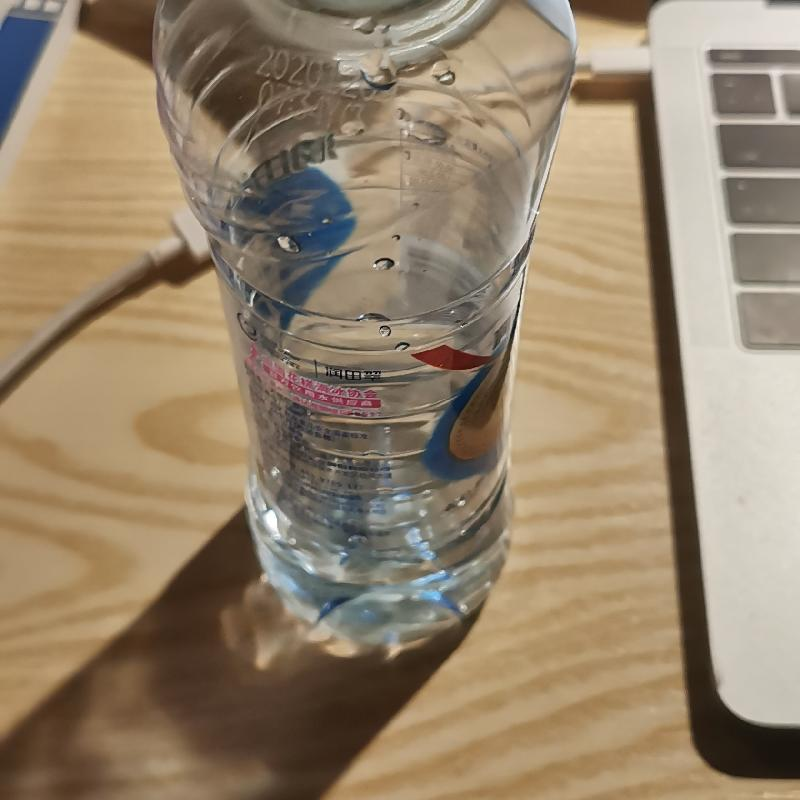bottles: (150, 0, 578, 653)
